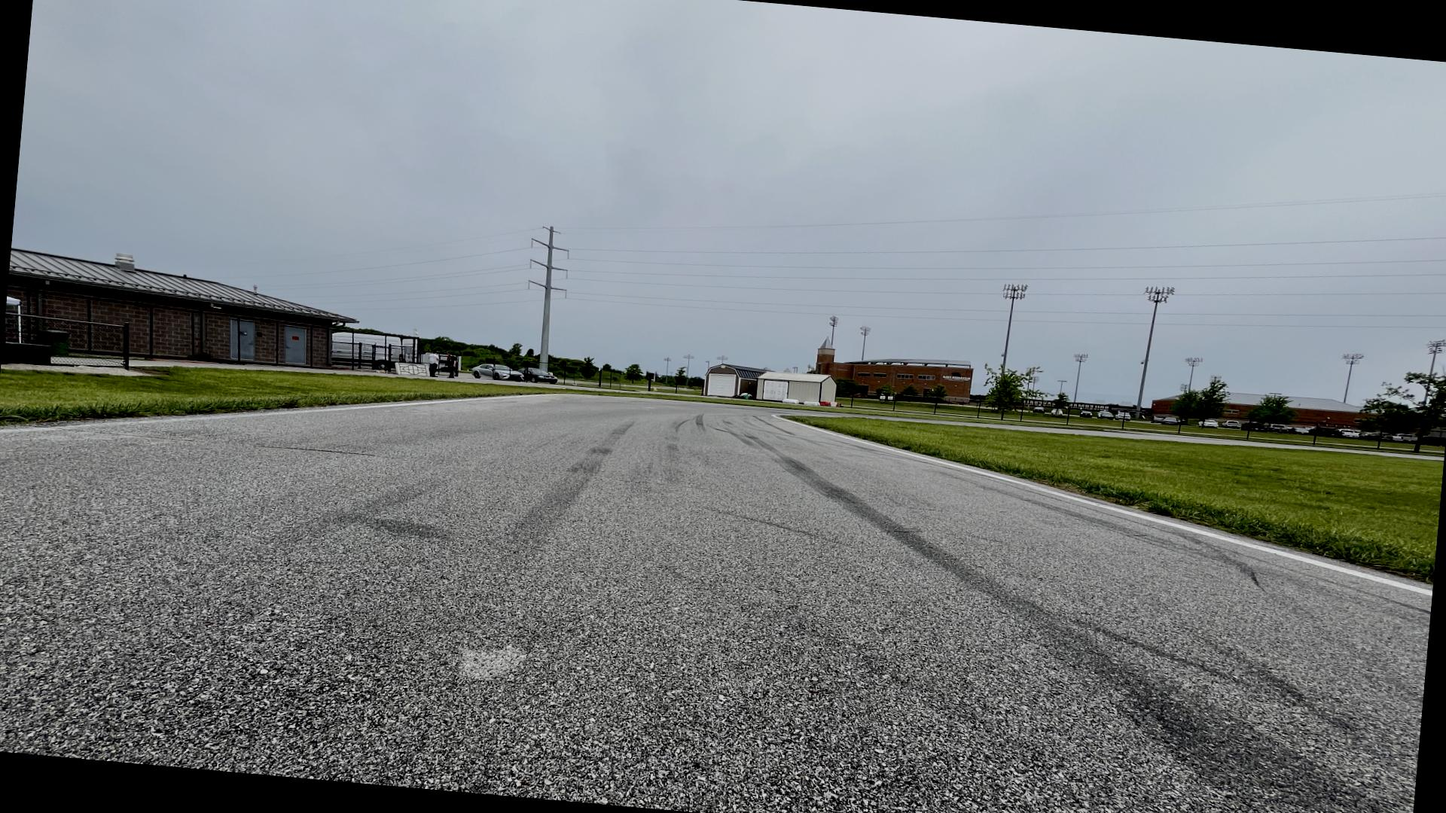white-line: (770, 415, 1432, 597), (0, 394, 594, 434)
